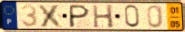0: (146, 4, 165, 29), (123, 4, 141, 30)
3: (21, 3, 39, 29)
H: (91, 4, 115, 29)
P: (68, 4, 91, 29)
X: (37, 4, 65, 29)
